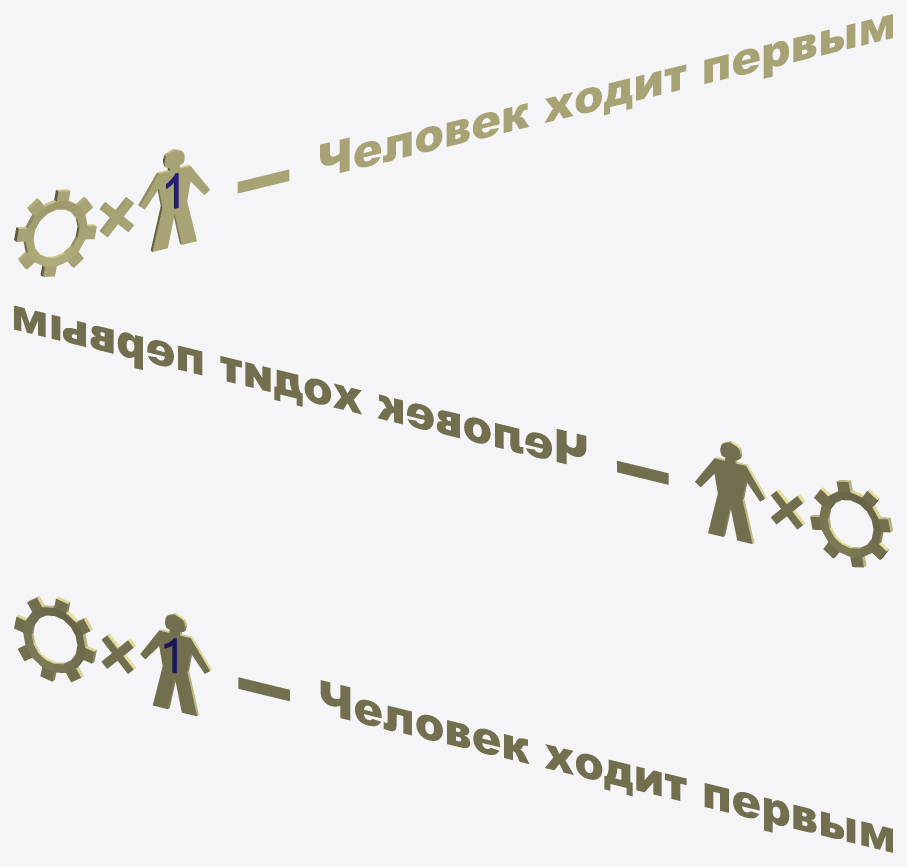
File: Machine1.fbx
The picture shows the model from 3 angles, top to bottom: view 1: azimuth 30°, elevation 25°; view 2: azimuth 150°, elevation 25°; view 3: azimuth 330°, elevation 25°; orthographic projection.
Parts seen in each view (by area): view 1: Text; view 2: Text; view 3: Text.
Part boxes in pixels (<box>): Text: <box>14,14,892,276</box>; Text: <box>14,305,892,567</box>; Text: <box>14,596,892,852</box>.
Size of the model in its own units: 916 by 96.1 by 6.67.
